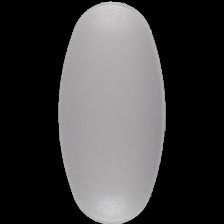61442-112: (0, 0, 224, 224)
